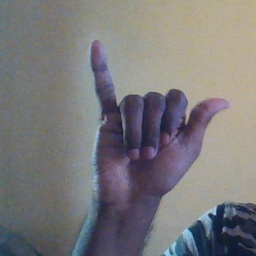J: (81, 34, 231, 195)
